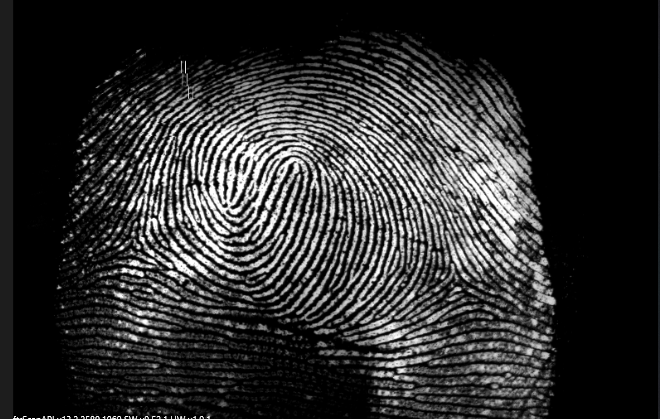deltas: (420, 243, 493, 320), (95, 211, 174, 280)
nucleo: (215, 147, 329, 232)
